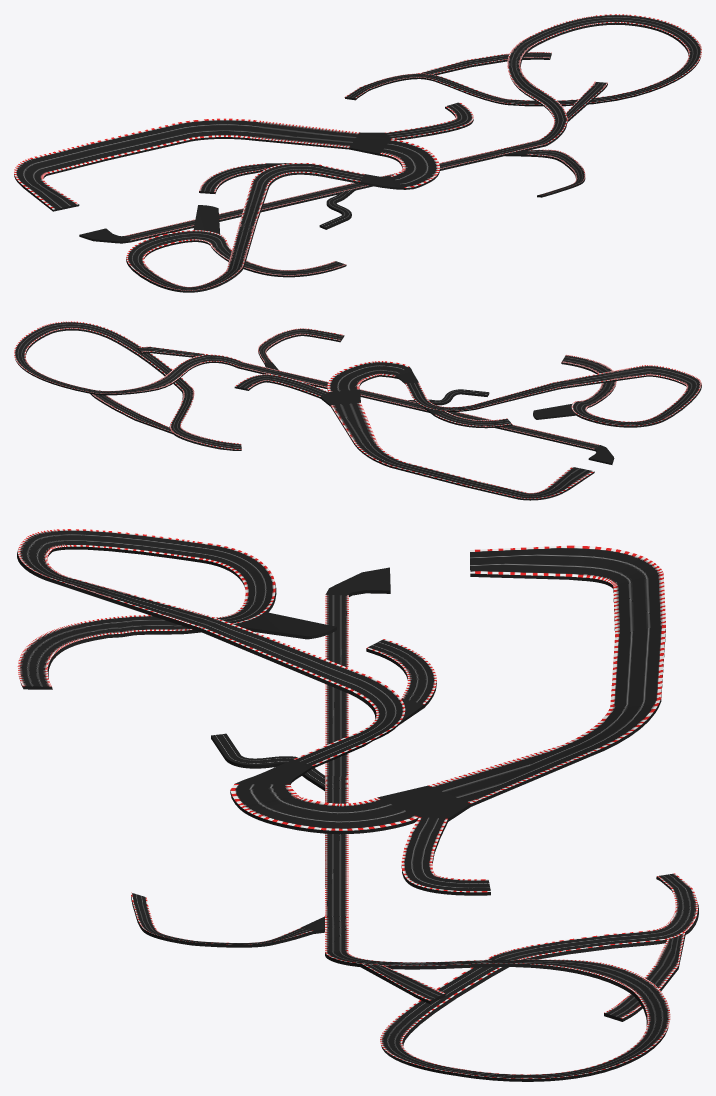
Rendered from map.fbx.
3 renders of one model, top to bottom at view 1: azimuth 30°, elevation 25°; view 2: azimuth 150°, elevation 25°; view 3: azimuth 270°, elevation 25°, orthographic. The views are drawn at different scales.
Visible parts, largest first — view 1: top, top_2; view 2: top, top_2; view 3: top, top_2.
Boxes of the visible parts, bbox=[...] form: top: bbox=[14, 14, 701, 290]; top_2: bbox=[14, 22, 700, 292]; top: bbox=[14, 321, 701, 498]; top_2: bbox=[15, 328, 701, 500]; top: bbox=[17, 529, 697, 1078]; top_2: bbox=[17, 546, 698, 1081].
Size of the model in its own units: 711 by 36.68 by 372.
1 material, 1 textured.
